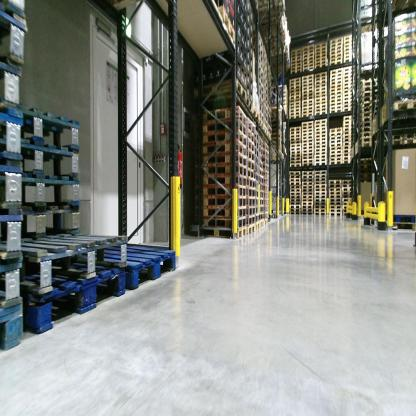pallet: (21, 222, 120, 312), (24, 269, 125, 342), (116, 236, 187, 289), (26, 91, 75, 148), (19, 174, 87, 209), (27, 144, 84, 177), (192, 80, 246, 114), (3, 202, 29, 263), (3, 6, 30, 64), (0, 262, 28, 315), (18, 209, 88, 230), (3, 154, 24, 219), (3, 62, 27, 110), (201, 167, 249, 190), (202, 143, 246, 166), (0, 107, 22, 153), (4, 308, 25, 354), (203, 105, 249, 124), (217, 6, 237, 49), (203, 139, 248, 158), (382, 95, 414, 120), (202, 161, 248, 178), (201, 129, 249, 145), (203, 213, 249, 229), (204, 118, 247, 135), (202, 184, 248, 198), (203, 207, 250, 220), (201, 195, 247, 208), (196, 227, 248, 238), (380, 221, 414, 236), (248, 103, 260, 123), (252, 33, 265, 50), (315, 109, 342, 117), (359, 91, 380, 101), (246, 117, 257, 135), (246, 127, 257, 145), (244, 94, 254, 113), (360, 78, 383, 86), (252, 38, 263, 54), (378, 140, 405, 146), (358, 174, 377, 182), (247, 174, 257, 189), (246, 194, 256, 209), (255, 73, 264, 89), (303, 161, 326, 167), (245, 145, 254, 160), (253, 49, 263, 62), (329, 87, 342, 97), (330, 80, 343, 90), (246, 185, 257, 196), (246, 202, 256, 214), (255, 207, 261, 227), (330, 67, 342, 77), (360, 158, 376, 165), (248, 214, 256, 228), (247, 157, 256, 169), (257, 136, 263, 154), (360, 86, 381, 91), (248, 137, 255, 152), (247, 166, 255, 179), (302, 63, 315, 71), (257, 101, 263, 118), (263, 101, 269, 118), (359, 101, 379, 106), (253, 55, 262, 66), (359, 106, 375, 112), (262, 151, 270, 163), (255, 66, 263, 78), (257, 93, 263, 109), (331, 37, 343, 45), (302, 44, 314, 52), (360, 165, 379, 170), (403, 139, 416, 146), (301, 120, 314, 127), (357, 113, 375, 118), (255, 163, 260, 181), (328, 211, 343, 217), (357, 170, 379, 174), (359, 136, 373, 142), (249, 223, 256, 235), (264, 175, 270, 189), (301, 124, 313, 131), (289, 77, 301, 84), (330, 93, 342, 100), (330, 72, 342, 79), (330, 50, 342, 57), (358, 118, 374, 123), (263, 157, 271, 167), (258, 110, 264, 123), (314, 119, 327, 125), (330, 104, 343, 110), (330, 42, 341, 49), (315, 47, 326, 54), (264, 165, 270, 177), (257, 81, 263, 93), (258, 89, 264, 101), (289, 91, 301, 97), (330, 101, 342, 107), (330, 46, 342, 52), (315, 64, 327, 70), (303, 53, 315, 59), (291, 59, 301, 66), (291, 56, 302, 62), (290, 52, 301, 58), (290, 84, 301, 90), (289, 94, 300, 100), (289, 100, 300, 106), (302, 100, 313, 106), (302, 97, 313, 103), (315, 50, 326, 56), (303, 60, 314, 66), (303, 57, 314, 63), (359, 126, 372, 131), (359, 131, 372, 136), (254, 129, 259, 142), (263, 85, 268, 98), (314, 188, 327, 193), (330, 154, 343, 159), (330, 142, 343, 147), (329, 128, 342, 133), (300, 128, 313, 133), (301, 113, 314, 118), (301, 75, 314, 80), (330, 99, 343, 104), (329, 58, 342, 63), (356, 142, 372, 146), (262, 205, 271, 212), (254, 190, 260, 200), (257, 204, 263, 214), (263, 78, 268, 90), (262, 63, 267, 75), (289, 204, 301, 209), (290, 171, 302, 176), (315, 170, 327, 175), (329, 183, 341, 188), (329, 206, 341, 211), (330, 135, 342, 140), (330, 133, 342, 138), (315, 141, 327, 146), (290, 64, 302, 69), (289, 114, 301, 119), (301, 106, 313, 111), (314, 83, 326, 88), (315, 97, 327, 102), (314, 104, 326, 109), (330, 77, 342, 82), (315, 43, 327, 48), (303, 67, 315, 72), (263, 170, 270, 178), (329, 162, 343, 166), (259, 119, 264, 130), (255, 199, 260, 210), (254, 154, 259, 165), (258, 152, 263, 163), (259, 180, 264, 191), (264, 119, 269, 130), (315, 127, 326, 132), (316, 148, 327, 153), (302, 135, 313, 140), (290, 126, 301, 131), (291, 70, 302, 75), (291, 49, 302, 54), (289, 105, 300, 110), (302, 82, 313, 87), (302, 89, 313, 94), (315, 76, 326, 81), (315, 79, 326, 84), (331, 54, 342, 59), (315, 57, 326, 62), (303, 50, 314, 55), (263, 190, 269, 199), (263, 143, 269, 152), (255, 146, 259, 159), (263, 47, 267, 60), (289, 195, 302, 199), (301, 192, 314, 196), (301, 212, 314, 216), (314, 209, 327, 213), (314, 184, 327, 188), (342, 191, 355, 195), (341, 184, 354, 188), (341, 180, 354, 184), (330, 150, 343, 154), (313, 155, 326, 159), (302, 153, 315, 157), (301, 143, 314, 147), (314, 90, 327, 94), (330, 61, 343, 65), (259, 160, 264, 170), (260, 198, 265, 208), (343, 120, 353, 125), (343, 54, 353, 59), (343, 59, 353, 64), (263, 185, 270, 192), (263, 212, 271, 218), (264, 96, 268, 108), (289, 209, 301, 213), (290, 191, 302, 195), (302, 178, 314, 182), (301, 202, 313, 206), (314, 205, 326, 209), (329, 180, 341, 184), (329, 188, 341, 192), (329, 198, 341, 202), (330, 140, 342, 144), (314, 124, 326, 128), (315, 131, 327, 135), (314, 138, 326, 142), (302, 146, 314, 150), (302, 132, 314, 136), (302, 138, 314, 142), (290, 68, 302, 72), (289, 108, 301, 112), (289, 112, 301, 116), (314, 94, 326, 98), (344, 35, 352, 41), (344, 46, 352, 52), (314, 61, 326, 65), (359, 123, 374, 126), (259, 175, 264, 184), (263, 128, 268, 137), (343, 160, 352, 165), (343, 71, 352, 76), (343, 79, 352, 84), (259, 168, 263, 179), (263, 71, 267, 82), (302, 171, 313, 175), (302, 185, 313, 189), (344, 131, 355, 135), (344, 135, 355, 139), (315, 151, 326, 155), (303, 160, 314, 164), (290, 131, 301, 135), (290, 140, 301, 144), (290, 147, 301, 151), (290, 154, 301, 158), (289, 82, 300, 86), (290, 88, 301, 92), (289, 99, 300, 103), (301, 79, 312, 83), (315, 73, 326, 77), (315, 53, 326, 57), (263, 218, 270, 224), (262, 199, 269, 205), (329, 159, 343, 162), (256, 223, 260, 233), (255, 138, 259, 148), (260, 221, 265, 229), (262, 57, 267, 65), (291, 182, 301, 186), (343, 145, 351, 150), (342, 67, 352, 71), (342, 86, 352, 90), (343, 100, 351, 105), (343, 107, 351, 112), (344, 40, 352, 45), (301, 196, 314, 199), (314, 213, 327, 216), (314, 192, 327, 195), (314, 196, 327, 199), (314, 181, 327, 184), (342, 195, 355, 198), (330, 147, 343, 150), (314, 135, 327, 138), (289, 164, 302, 167), (314, 87, 327, 90), (260, 210, 264, 219), (289, 212, 301, 215), (289, 199, 301, 202), (289, 179, 301, 182), (302, 175, 314, 178), (302, 182, 314, 185), (301, 189, 313, 192), (301, 199, 313, 202), (301, 209, 313, 212), (314, 202, 326, 205), (314, 199, 326, 202), (314, 178, 326, 181), (329, 192, 341, 195), (329, 195, 341, 198), (329, 203, 341, 206), (342, 188, 354, 191), (314, 145, 326, 148), (302, 157, 314, 160), (302, 150, 314, 153), (289, 137, 301, 140), (289, 161, 301, 164), (302, 104, 314, 107), (301, 86, 313, 89), (343, 75, 352, 79), (343, 96, 352, 100), (301, 206, 312, 209), (315, 175, 326, 178), (330, 211, 341, 214), (341, 117, 352, 120), (342, 150, 353, 153), (343, 156, 354, 159), (290, 144, 301, 147), (290, 151, 301, 154), (290, 158, 301, 161), (302, 111, 313, 114), (302, 94, 313, 97), (263, 113, 267, 121), (343, 90, 351, 94), (343, 93, 351, 97), (344, 44, 352, 48), (264, 91, 267, 101), (290, 188, 300, 191), (291, 186, 301, 189), (256, 178, 258, 192), (260, 190, 264, 197), (342, 210, 349, 214), (342, 198, 349, 202), (345, 51, 352, 55), (343, 125, 352, 128), (343, 153, 352, 156), (342, 104, 351, 107), (289, 176, 302, 178), (313, 159, 326, 161), (314, 109, 327, 111), (289, 202, 301, 204), (343, 206, 349, 210), (344, 128, 352, 131), (343, 142, 351, 145), (289, 135, 301, 137), (314, 102, 326, 104), (344, 139, 351, 142), (343, 84, 351, 86)
